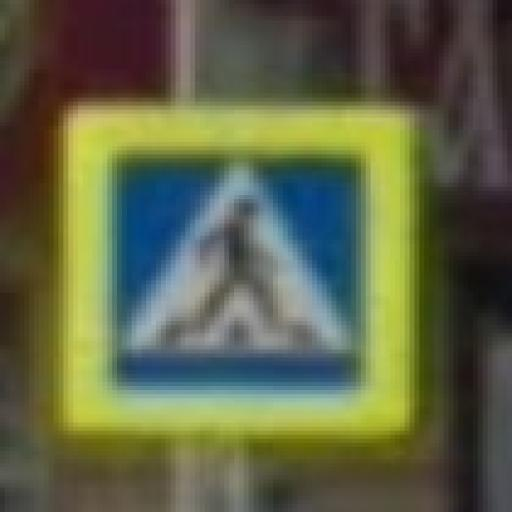traffic_sign: (50, 99, 430, 448)
